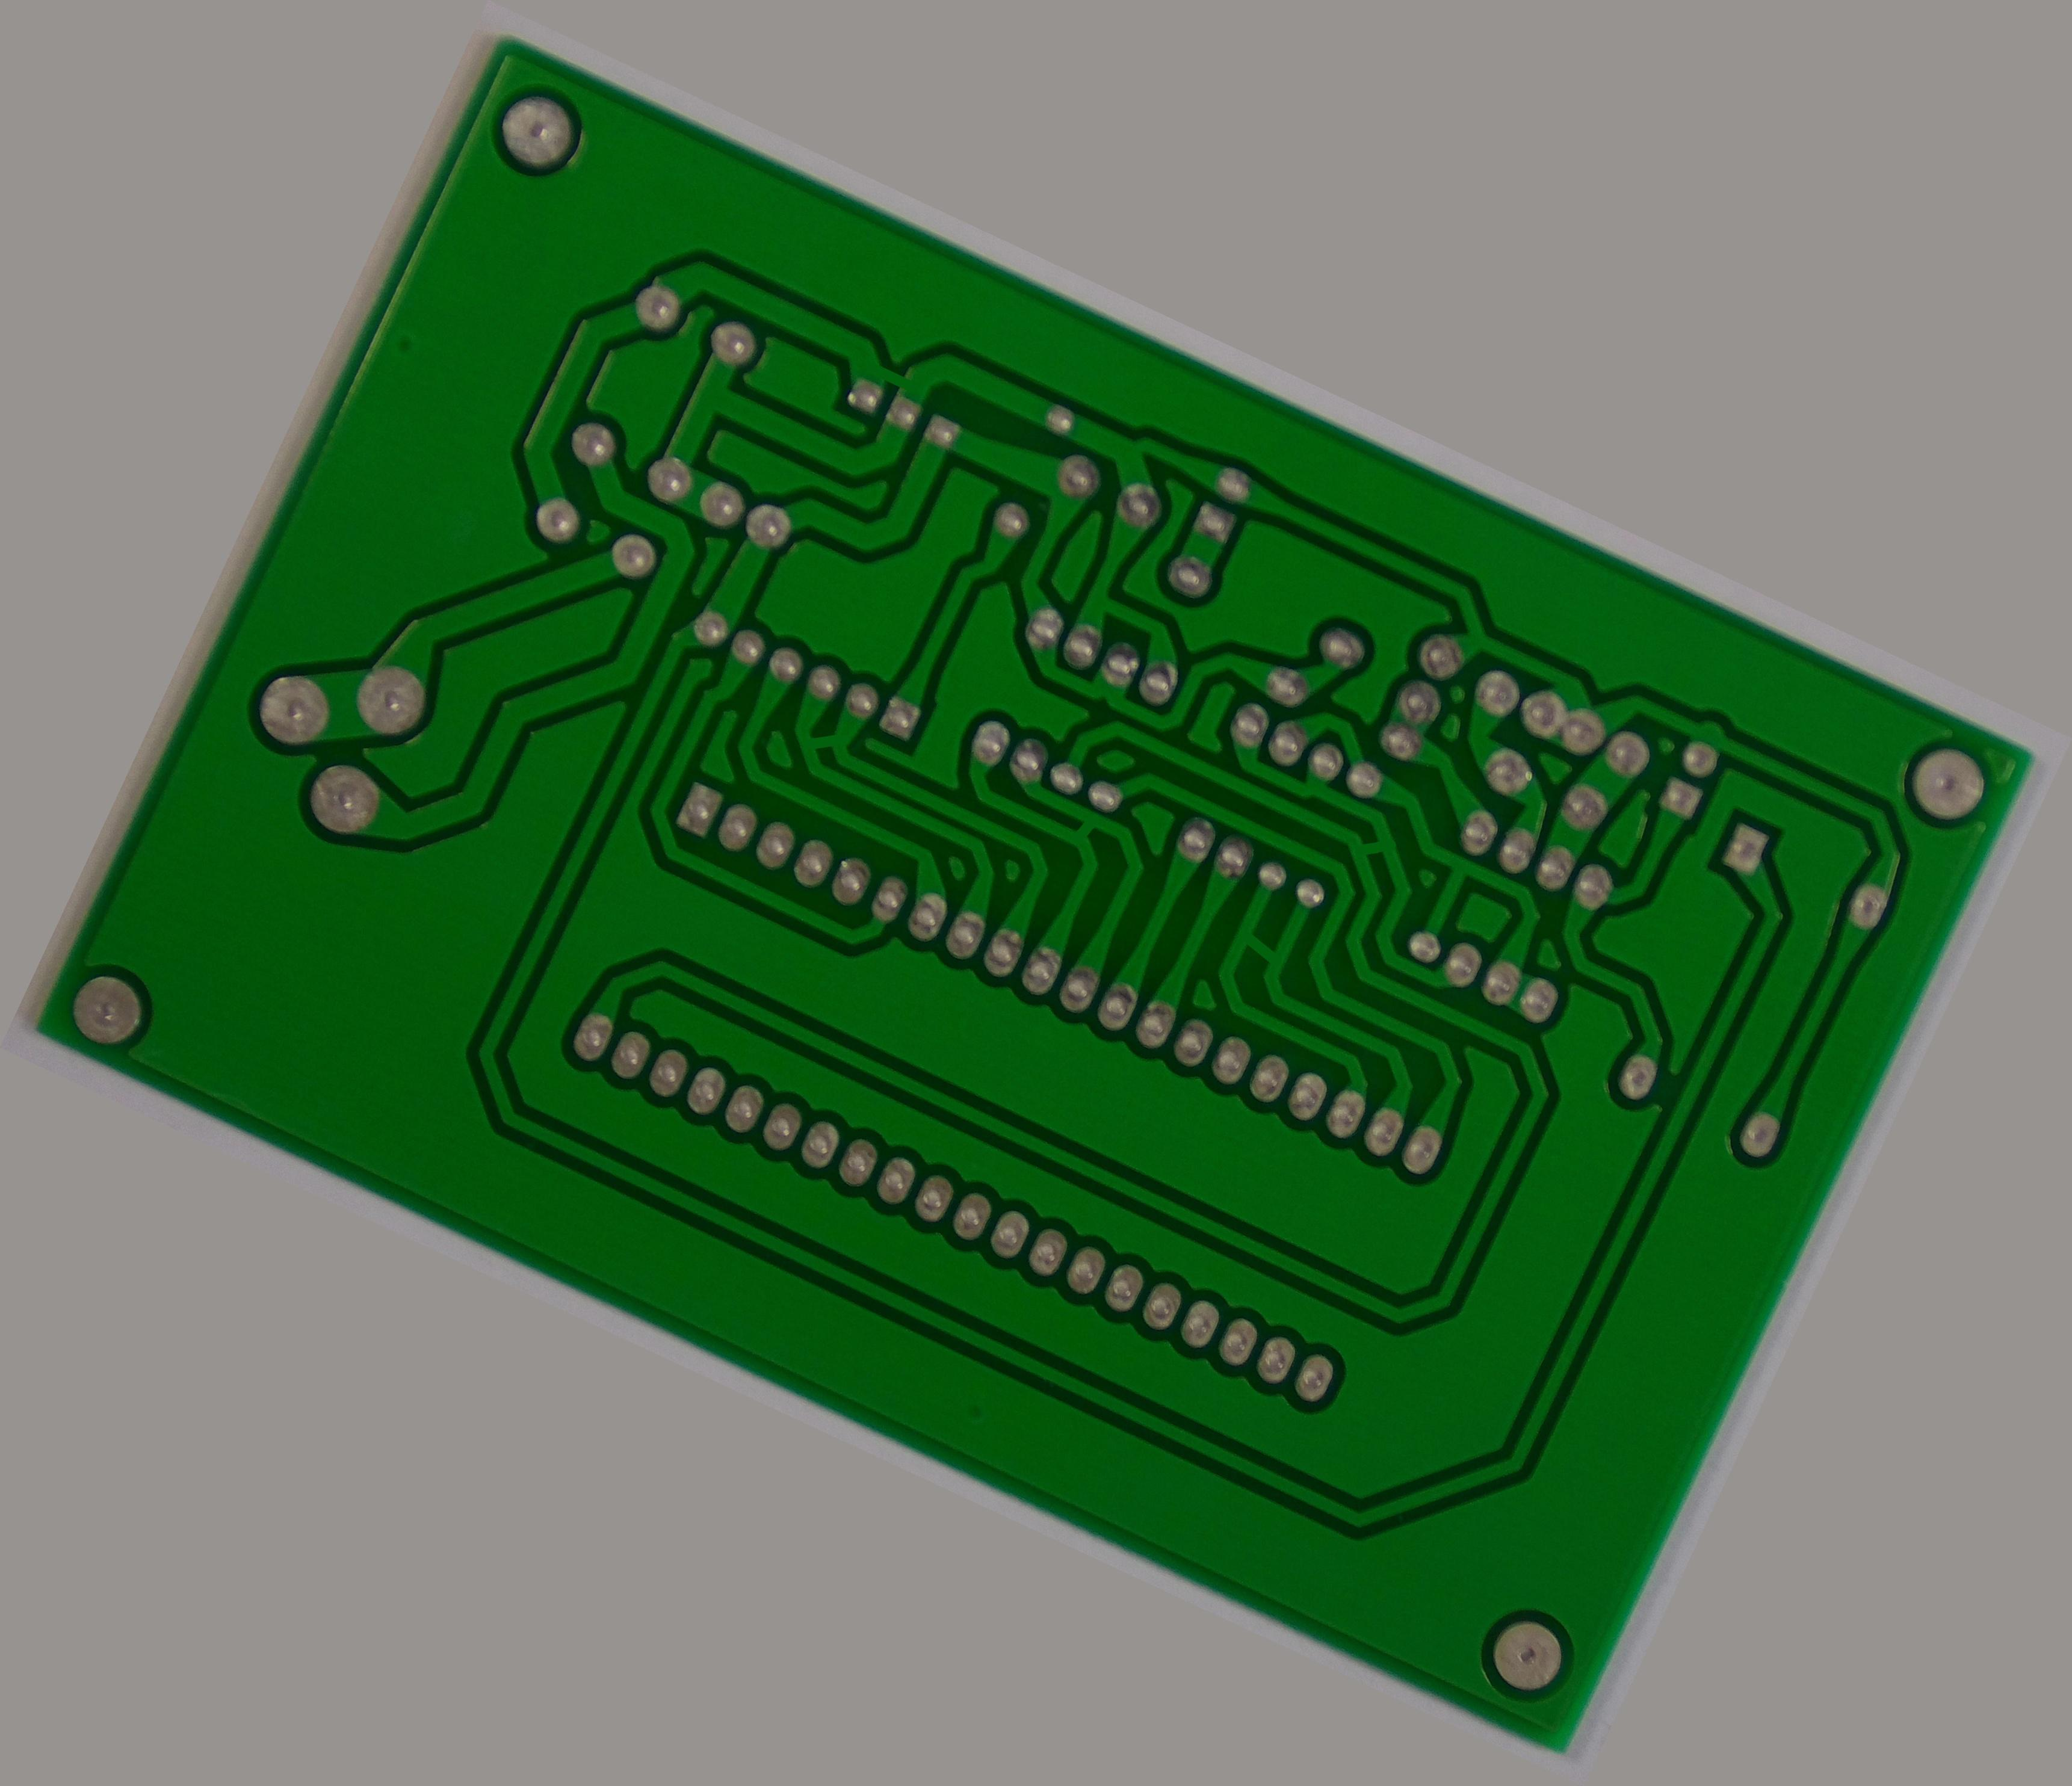short: (1216, 911, 1304, 993), (847, 336, 936, 419), (777, 703, 863, 782), (1332, 814, 1408, 882), (1043, 794, 1117, 863)
